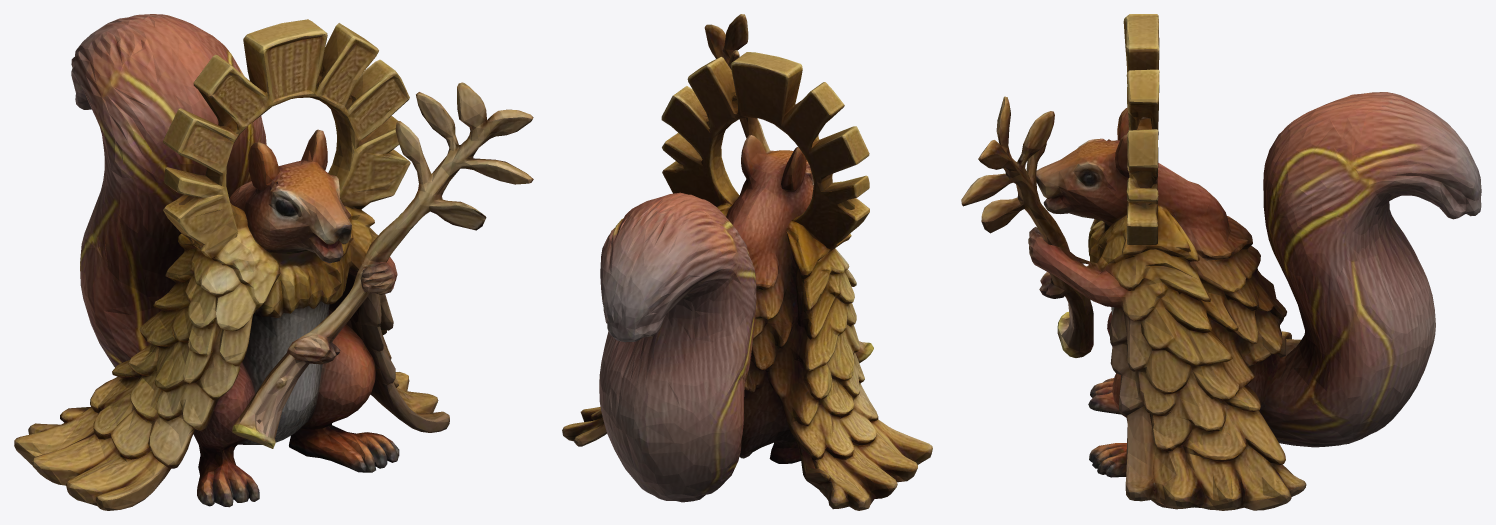
The model's file is quillshade__worldTreeMessenger.glb.
3 views of the same model, side by side, from view 1: azimuth 30°, elevation 25°; view 2: azimuth 150°, elevation 25°; view 3: azimuth 270°, elevation 25° (orthographic). The views are drawn at different scales.
Visible parts, largest first — view 1: world; view 2: world; view 3: world.
Boxes of the visible parts, bbox=[...] form: world: bbox=[14, 14, 533, 510]; world: bbox=[562, 14, 932, 510]; world: bbox=[961, 14, 1481, 510].
Size of the model in its own units: 0.7731 by 0.8785 by 0.9998.
1 material, 1 textured.
